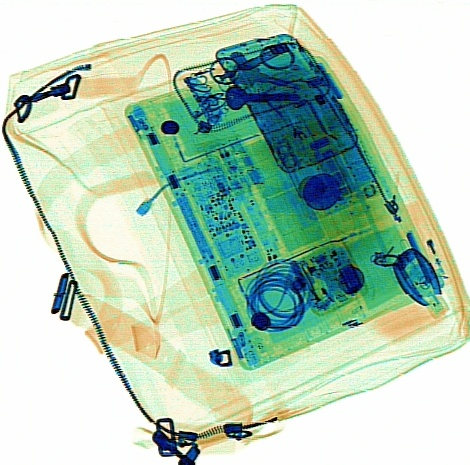lighter: (404, 197, 450, 287)
